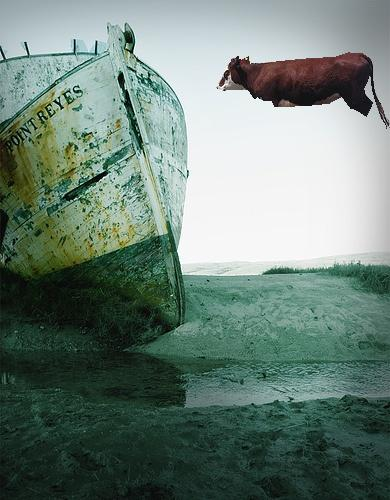tampered: (217, 53, 390, 129)
